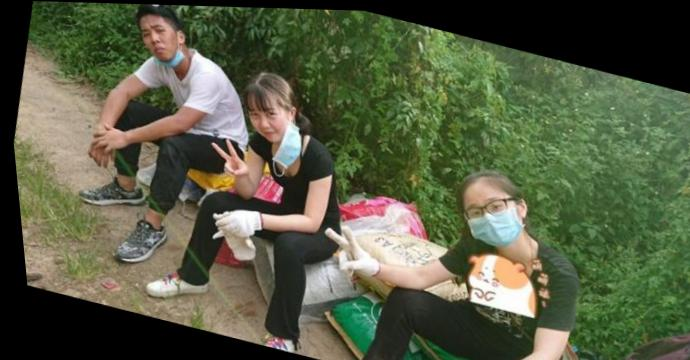OK: (454, 186, 520, 250)
WRONG: (134, 18, 188, 69), (240, 100, 293, 147)
